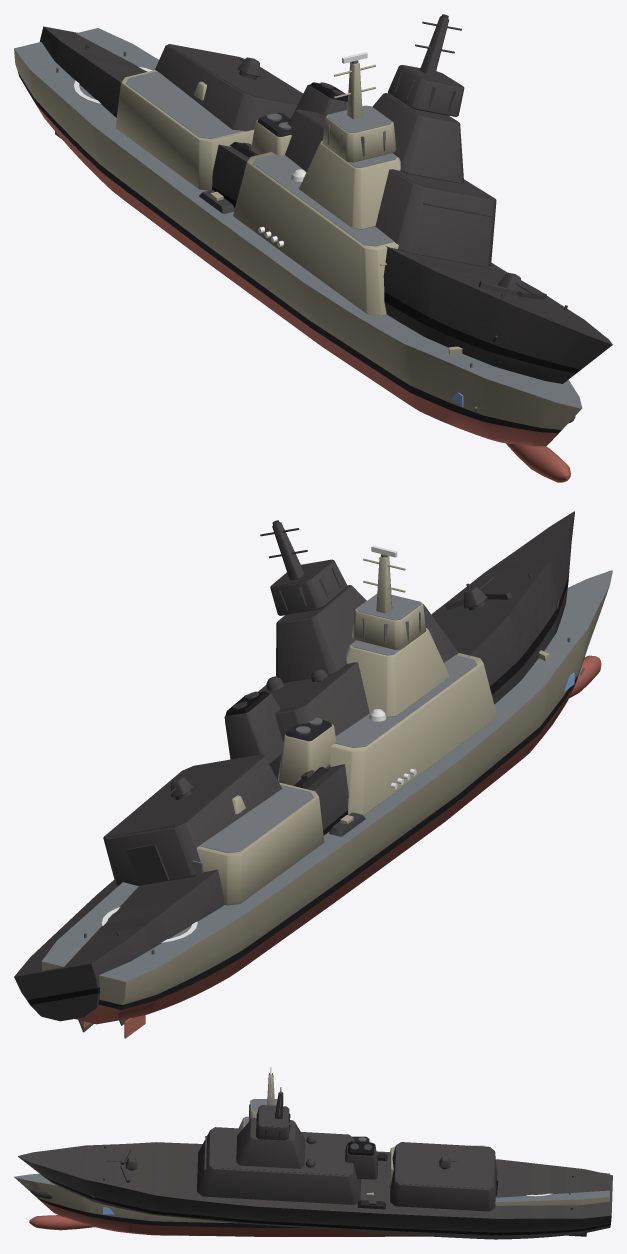
The model's file is corvette__holland_class.glb.
3 renders of one model, top to bottom at view 1: azimuth 30°, elevation 25°; view 2: azimuth 150°, elevation 25°; view 3: azimuth 270°, elevation 25°, orthographic. The views are drawn at different scales.
Visible parts, largest first — view 1: Hull_Mesh, Wreck; view 2: Hull_Mesh, Wreck; view 3: Wreck, Hull_Mesh.
Part boxes in pixels (<box>): Hull_Mesh: <box>14,28,582,482</box>; Wreck: <box>39,14,612,423</box>; Hull_Mesh: <box>41,556,612,1038</box>; Wreck: <box>14,511,574,1032</box>; Wreck: <box>18,1087,612,1239</box>; Hull_Mesh: <box>14,1074,609,1236</box>.
Size of what is drawn, in the model's own units: 22.22 by 34.61 by 113.
